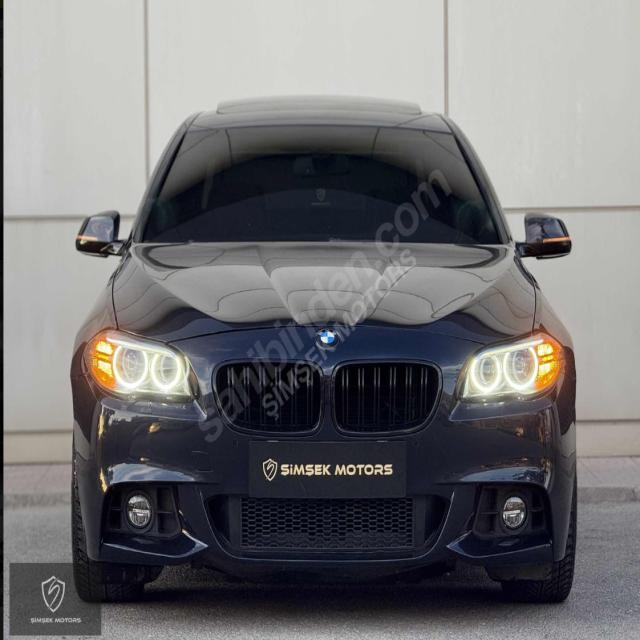bmw: (314, 323, 341, 353)
